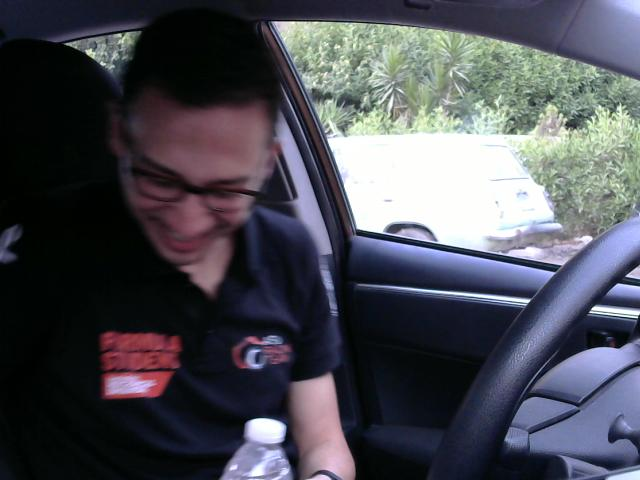Drinking: (208, 416, 313, 480)
